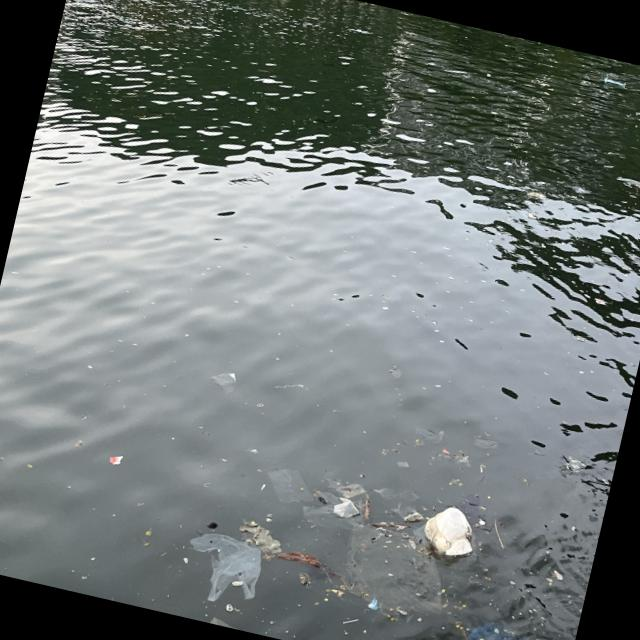foam: (421, 502, 483, 561)
plastic bag: (191, 531, 264, 605)
